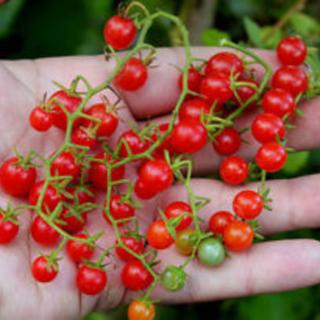Tomat: (104, 14, 138, 52), (114, 57, 150, 92), (277, 37, 308, 67)
